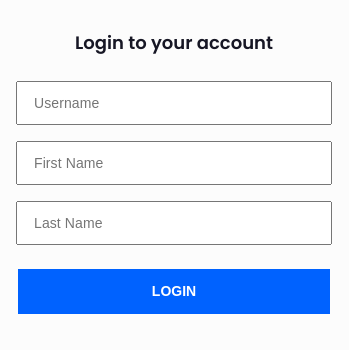
Login displays error messages when trying to login without sign in data
Step 1. Click the button "LOGIN" → (174, 292), box [18, 269, 330, 314]
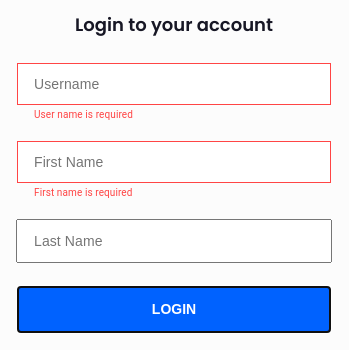
Expected: the button "LOGIN" is shown, [18, 287, 330, 332]
Now the text "User name is required" is shown, box [34, 109, 133, 120]
Now the text "First name is required" is shown, box [34, 187, 132, 198]
